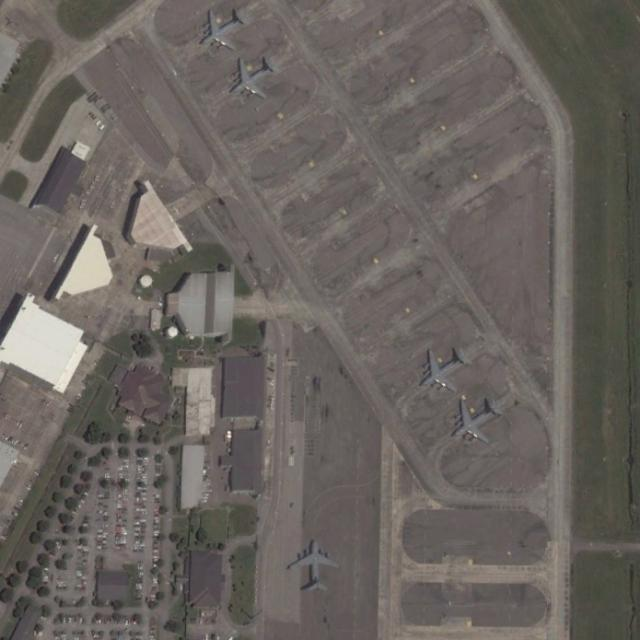fighter jet: (288, 536, 334, 591), (448, 398, 504, 443), (228, 56, 277, 98), (418, 347, 463, 392), (200, 8, 243, 51)
